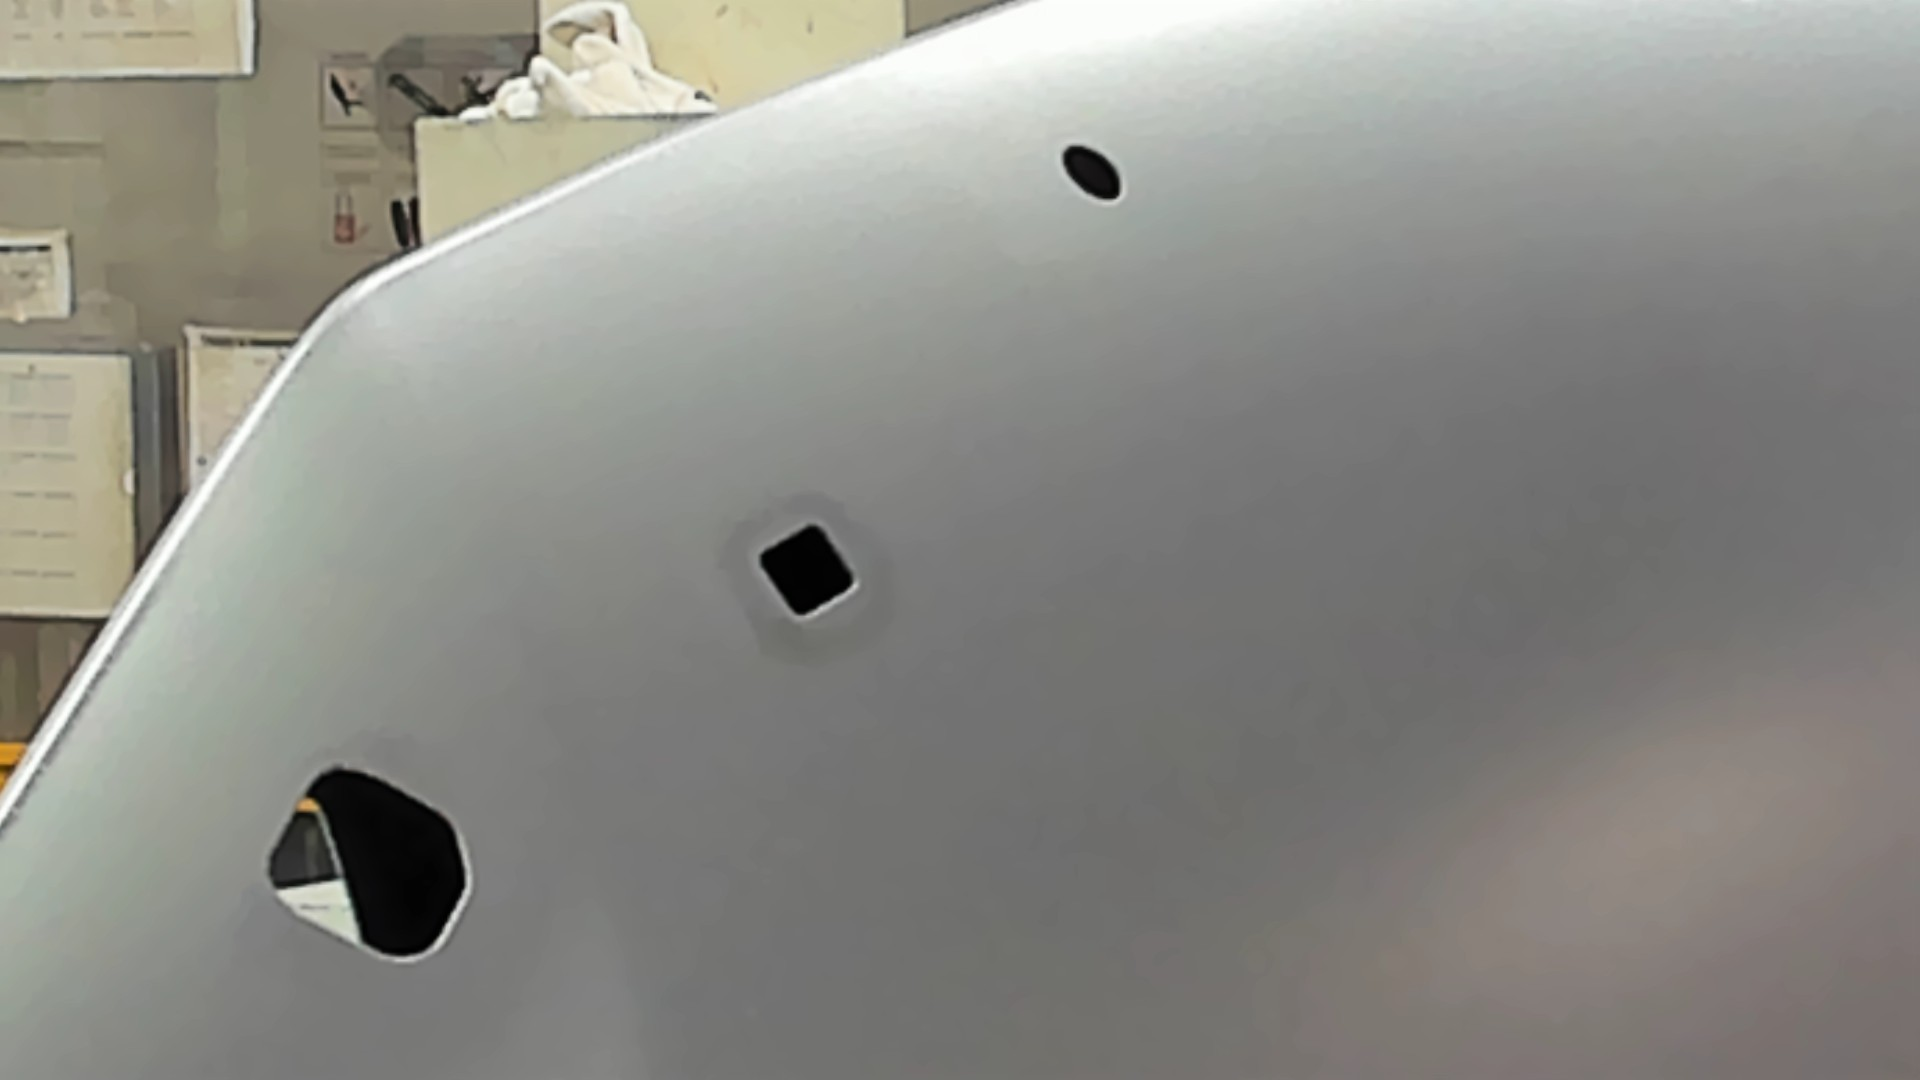chico: (1055, 140, 1127, 204)
grande: (264, 764, 475, 964)
mediano: (754, 520, 860, 622)
